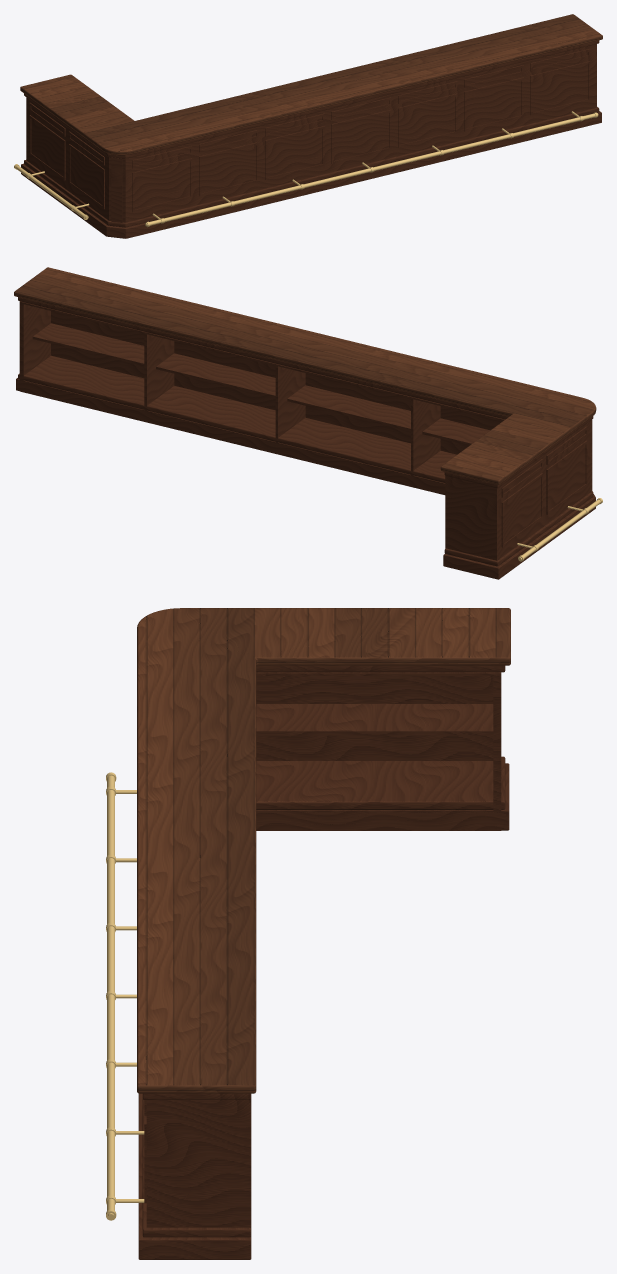
File: bar_counter.glb
3 views of the same model, one above another, from view 1: azimuth 30°, elevation 25°; view 2: azimuth 150°, elevation 25°; view 3: azimuth 270°, elevation 25° (orthographic). The views are drawn at different scales.
Visible parts, largest first — view 1: bar_counter; view 2: bar_counter; view 3: bar_counter.
Boxes of the visible parts, x1=… form: bar_counter: x1=14, y1=14, x2=602, y2=238; bar_counter: x1=14, y1=267, x2=602, y2=579; bar_counter: x1=106, y1=608, x2=510, y2=1259.
Bounding box in the file's own units: 7.21 × 1.2 × 2.51.
3 materials, 2 textured.
